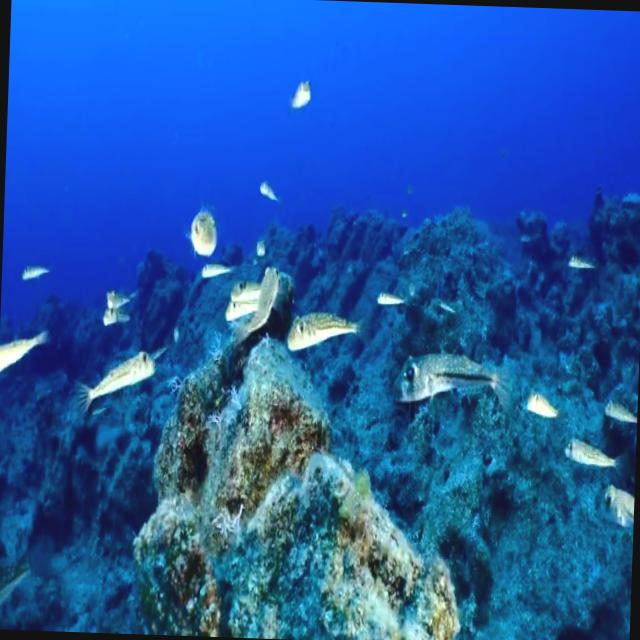Balon Baligi: (80, 334, 156, 418), (391, 353, 501, 409), (287, 298, 358, 356), (176, 190, 226, 264), (245, 255, 281, 340), (594, 374, 638, 436), (562, 431, 622, 476), (518, 372, 564, 424), (98, 274, 145, 312), (84, 295, 138, 328), (283, 61, 313, 120), (374, 280, 407, 312), (567, 249, 596, 283)
